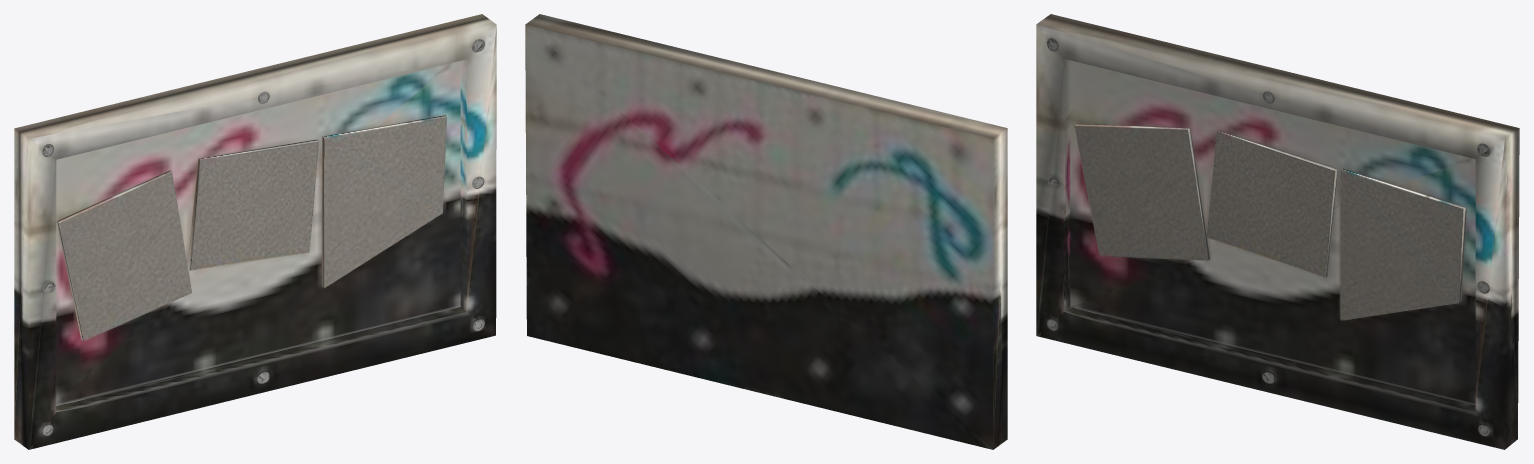
File: boarded_window.glb
3 views of the same model, side by side, from view 1: azimuth 30°, elevation 25°; view 2: azimuth 150°, elevation 25°; view 3: azimuth 330°, elevation 25° (orthographic).
Bounding box in the file's own units: 3 × 1.91 × 0.1775.
Materials: 1 (1 with a texture image).
